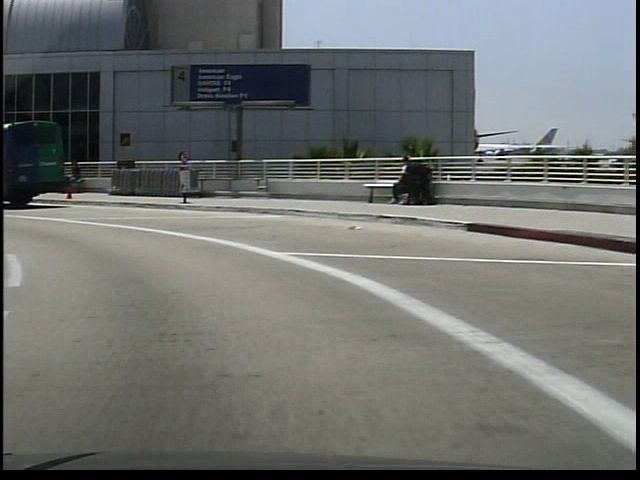person: (65, 157, 85, 197)
